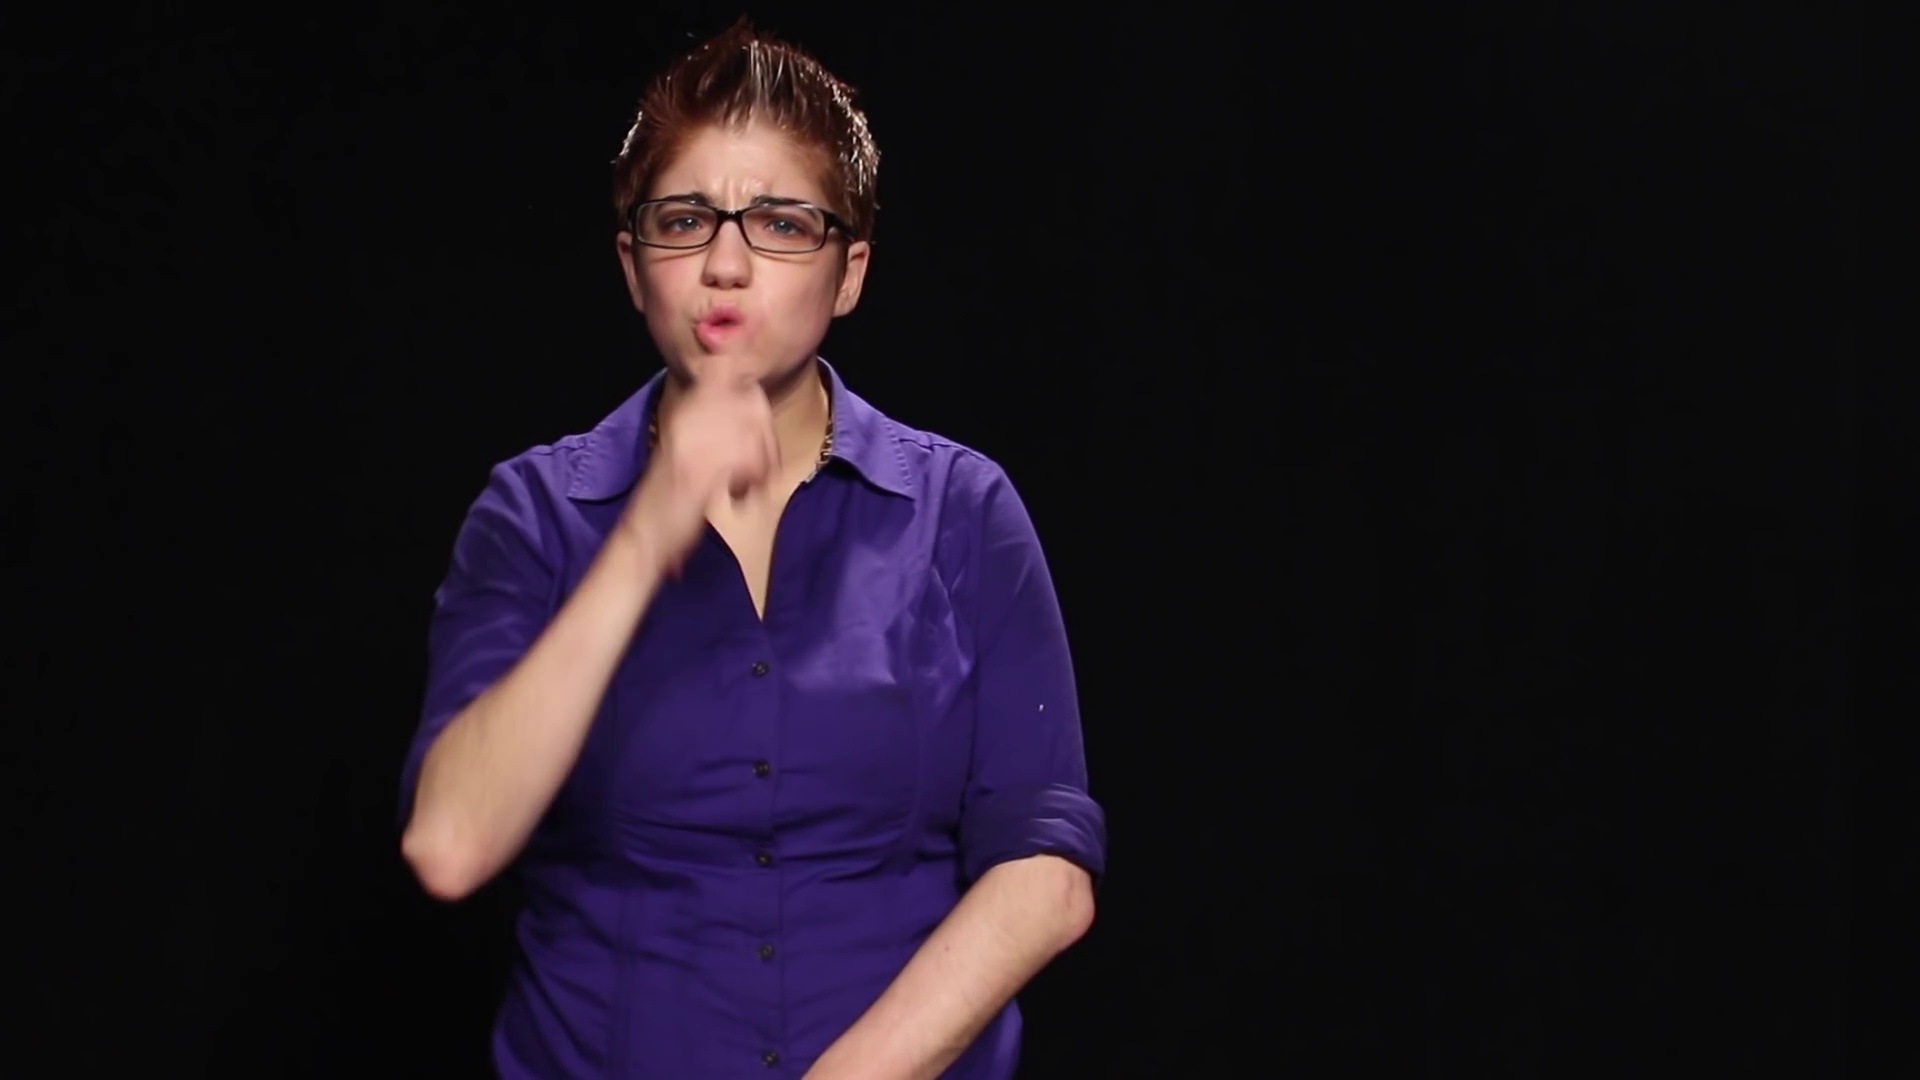who: (634, 345, 796, 524)
